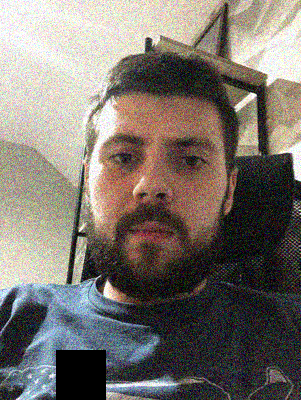without_mask: (85, 131, 232, 284)
